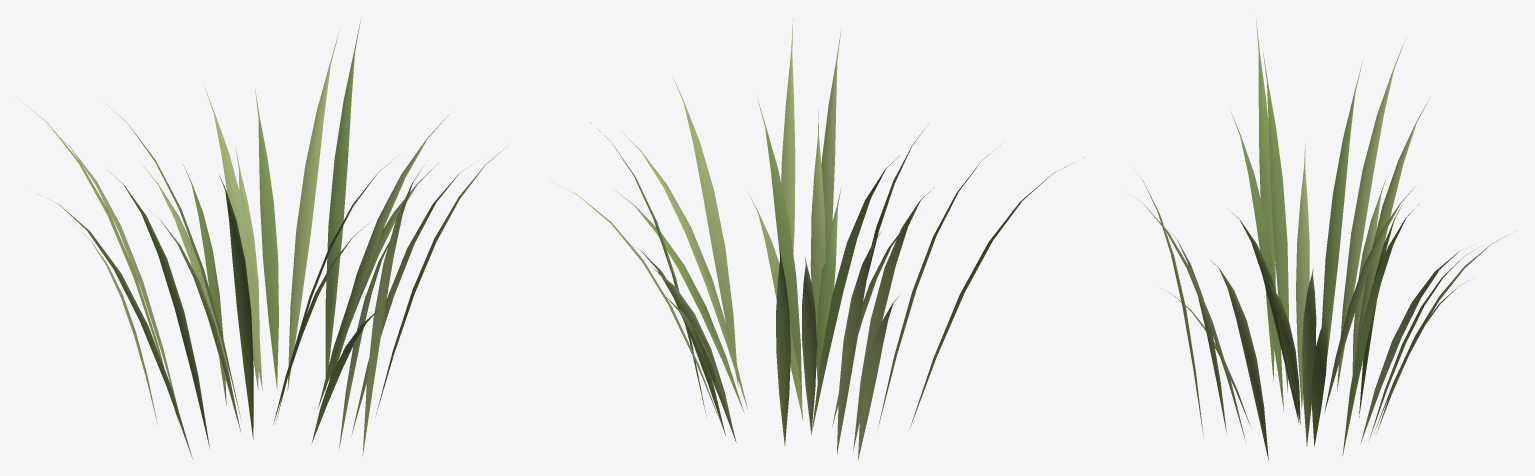
Rendered from tall_grass_LOD1.glb.
3 views of the same model, side by side, from view 1: azimuth 30°, elevation 25°; view 2: azimuth 150°, elevation 25°; view 3: azimuth 270°, elevation 25° (orthographic). The views are drawn at different scales.
Parts seen in each view (by area): view 1: tall_grass_LOD1; view 2: tall_grass_LOD1; view 3: tall_grass_LOD1.
Part boxes in pixels (x1,y1,x2,y2): tall_grass_LOD1: (21, 19, 507, 458); tall_grass_LOD1: (573, 18, 1084, 460); tall_grass_LOD1: (1134, 18, 1515, 459).
Bounding box in the file's own units: 1.6 × 1.13 × 1.35.
